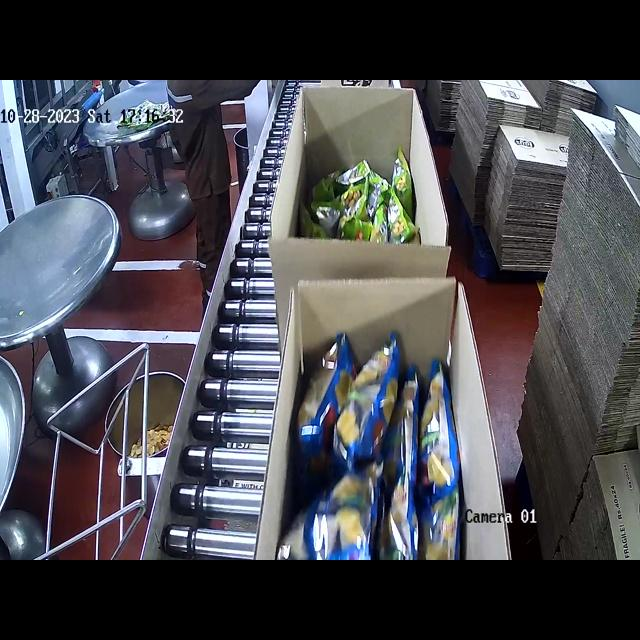paprika: (312, 335, 475, 560)
yogurt: (301, 145, 402, 253)
